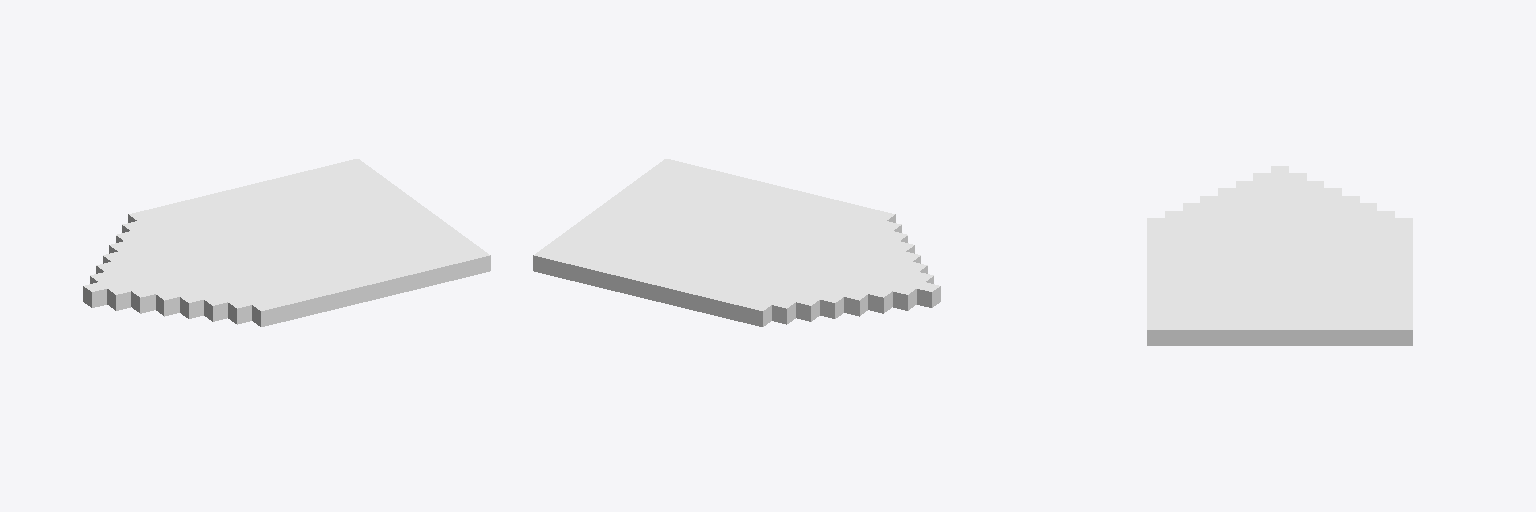
File: sheild.obj
3 renders of one model, left to right at view 1: azimuth 30°, elevation 25°; view 2: azimuth 150°, elevation 25°; view 3: azimuth 270°, elevation 25°, orthographic.
Bounding box in the file's own units: 22 × 1 × 15.